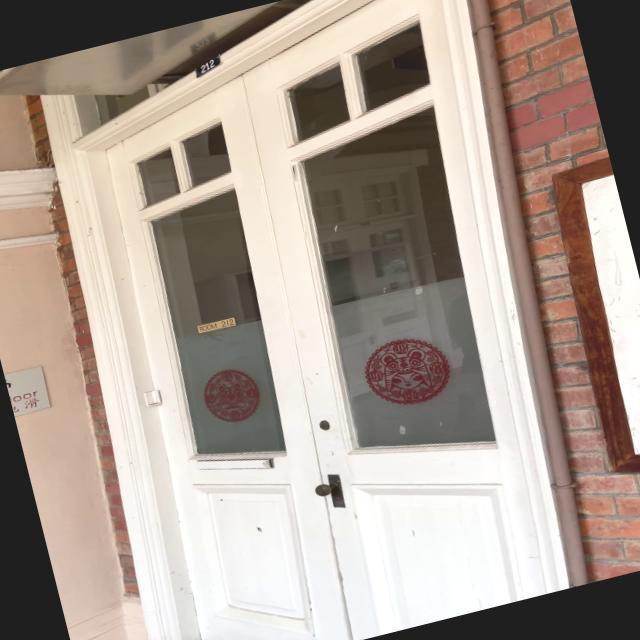room212: (188, 49, 227, 79)
room212Window: (189, 312, 241, 339)
